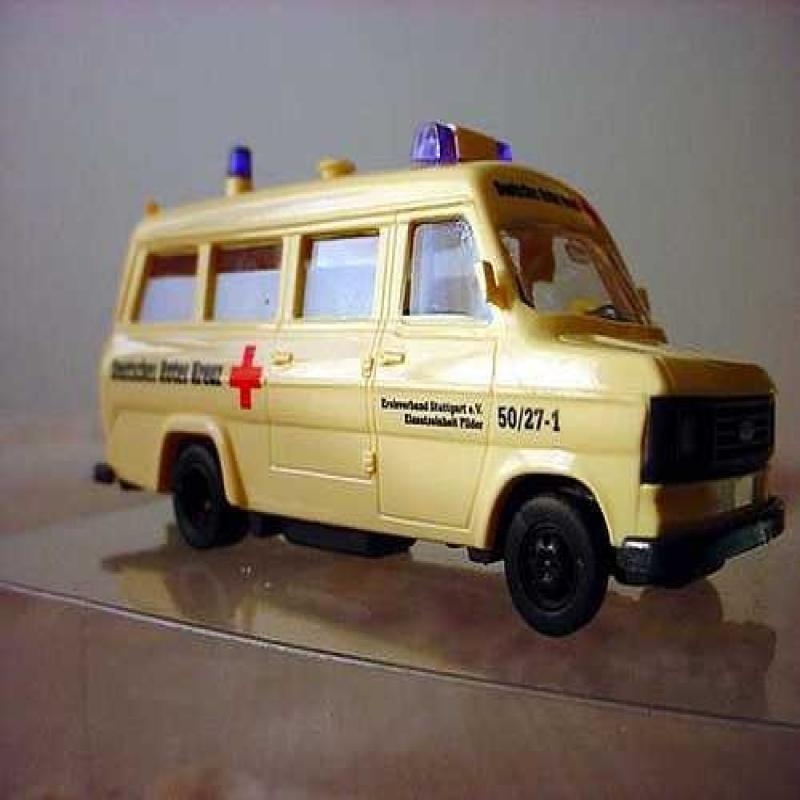AmbulanceSiren: (400, 103, 534, 168)
